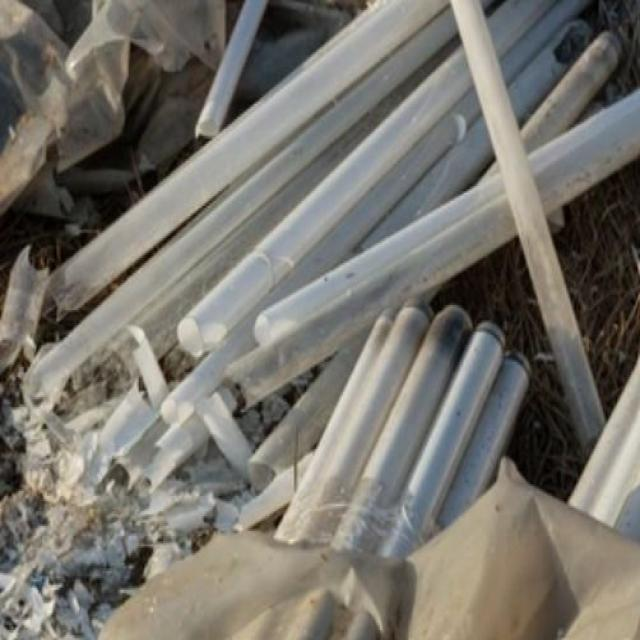electronic: (0, 0, 638, 638), (270, 296, 529, 558)
